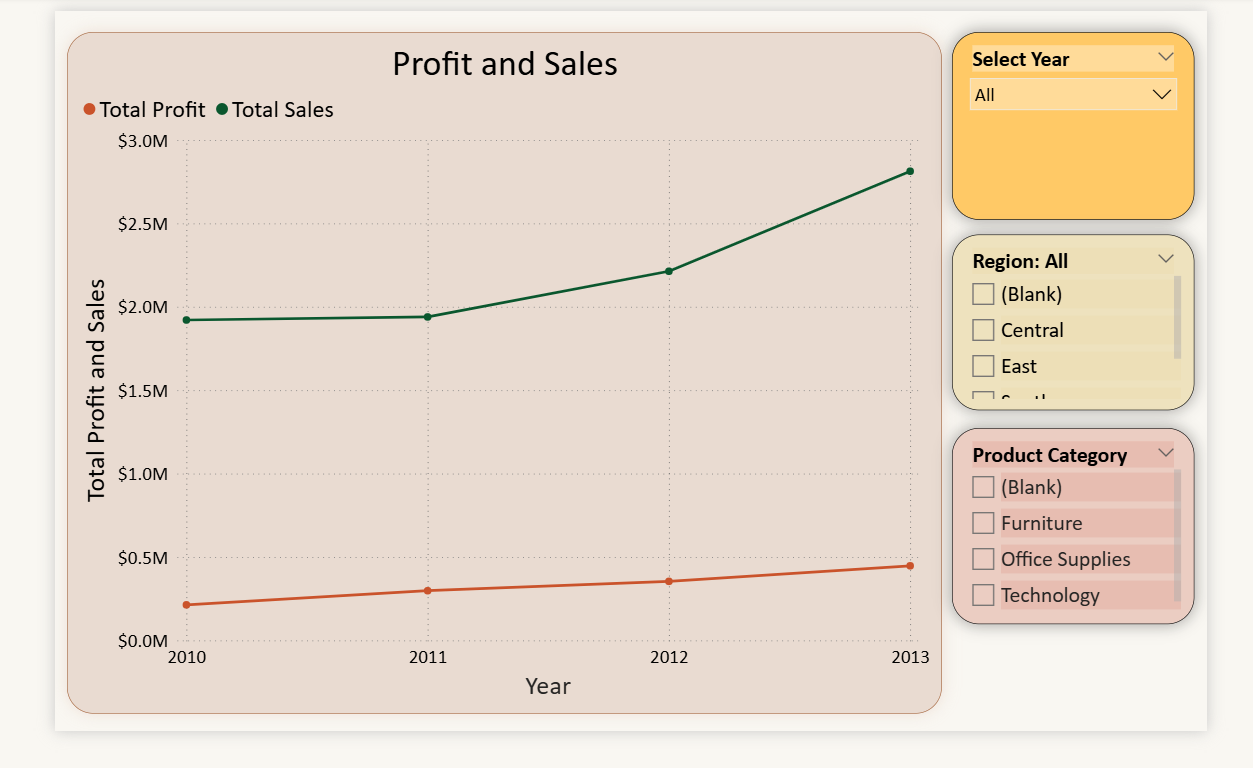

The page's visual inventory and layout, read from the dashboard file:
{"tool":"powerbi","page":{"name":"Trends","canvas":[1280,800],"ordinal":1},"visuals":[{"type":"lineChart","title":"Profit and Sales","fields":{"Y":["Sum(Orders.Profit)","Orders.Total_Sales"],"Category":["DmDate.Date Hierarchy.Year","DmDate.Date Hierarchy.Quarter","DmDate.Date Hierarchy.Month Name","DmDate.Date Hierarchy.Weekday"]},"box":[13.7,22.9,972.2,757.3],"z":0},{"type":"slicer","fields":{"Values":["DmDate.Year"]},"box":[996.3,22.7,269.5,209],"z":1000},{"type":"slicer","fields":{"Values":["DmCustomer.Region"]},"box":[996.3,248.3,269.5,195.3],"z":2000},{"type":"slicer","fields":{"Values":["DmProducts.Product Category"]},"box":[996.3,463.3,269.5,218],"z":3000}]}

Visuals, with their boxes in screenshot pixels (x1, y1, x2, y2), scaled from the page's 1280x800 canvas onto the 1253x768 screenshot:
"Profit and Sales" lineChart: [left=13, top=22, right=965, bottom=749]
slicer - DmDate.Year: [left=975, top=22, right=1239, bottom=222]
slicer - DmCustomer.Region: [left=975, top=238, right=1239, bottom=426]
slicer - DmProducts.Product Category: [left=975, top=445, right=1239, bottom=654]
